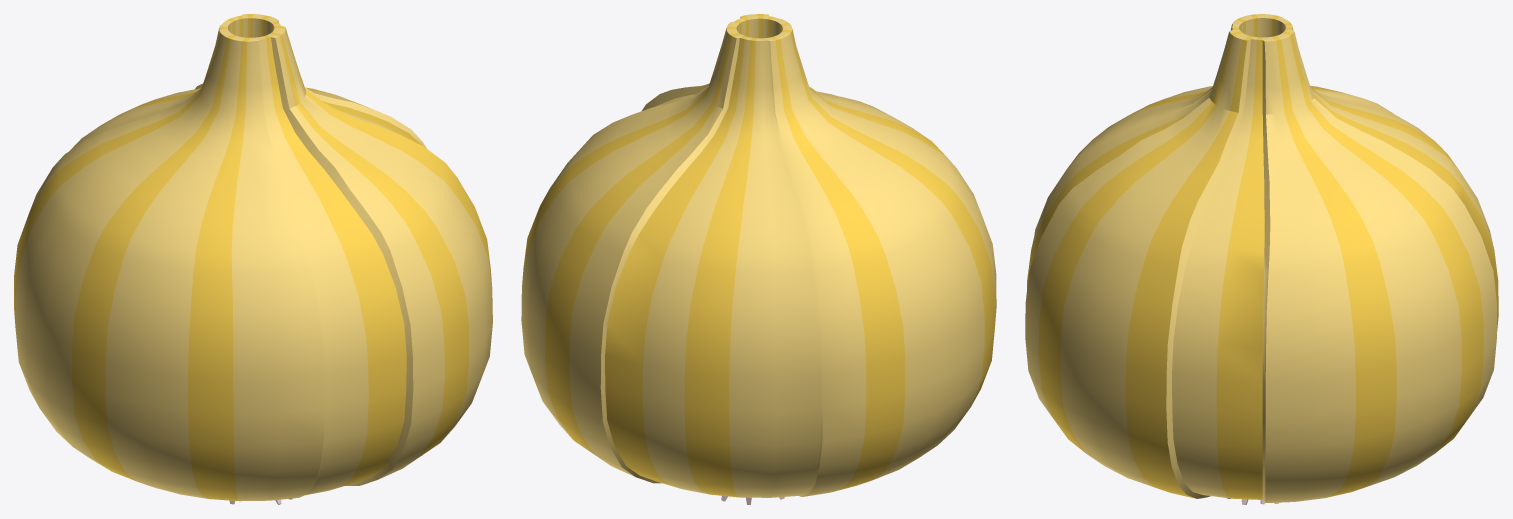
The model's file is onion.glb.
The picture shows the model from 3 angles, left to right: view 1: azimuth 30°, elevation 25°; view 2: azimuth 150°, elevation 25°; view 3: azimuth 270°, elevation 25°; orthographic projection.
Visible parts, largest first — view 1: Sphere.488; view 2: Sphere.488; view 3: Sphere.488.
Part boxes in pixels (left/top/right/bottom): Sphere.488: left=14, top=14, right=492, bottom=504; Sphere.488: left=521, top=14, right=996, bottom=504; Sphere.488: left=1025, top=14, right=1498, bottom=504.
Size of the model in its own units: 2.19 by 2.31 by 2.16.
1 material, 1 textured.
